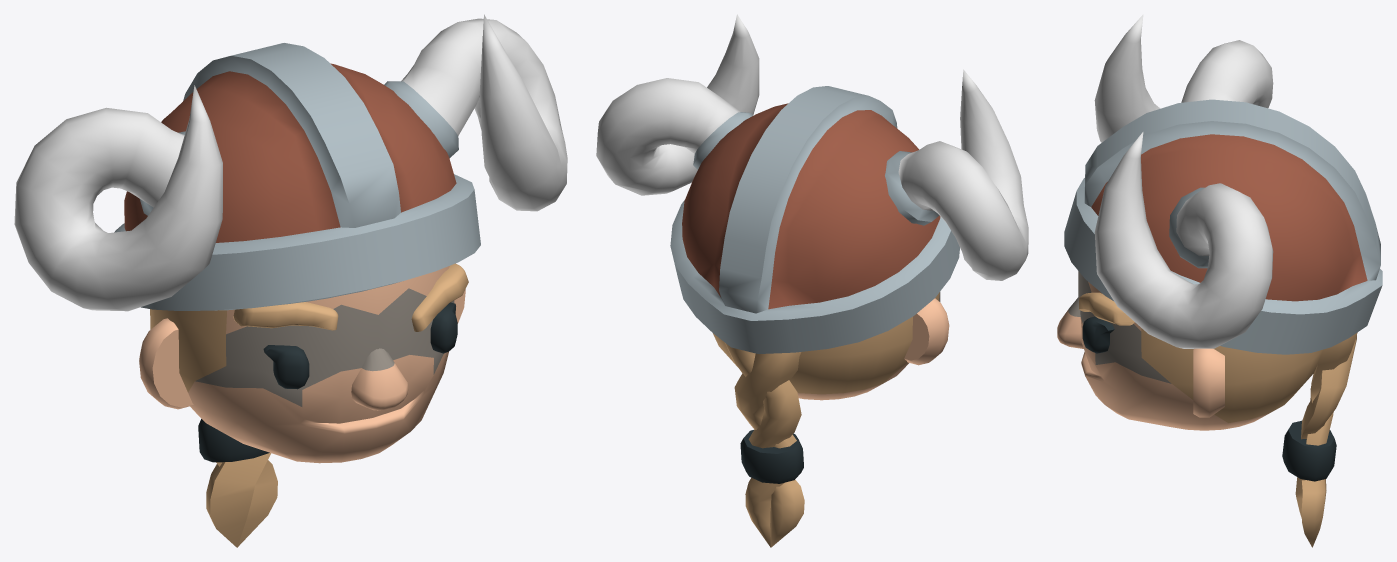
File: vikingFemaleHeadB_helmet.gltf.glb
3 views of the same model, side by side, from view 1: azimuth 30°, elevation 25°; view 2: azimuth 150°, elevation 25°; view 3: azimuth 270°, elevation 25° (orthographic). The views are drawn at different scales.
Parts seen in each view (by area): view 1: vikingFemaleHeadB_helmet; view 2: vikingFemaleHeadB_helmet; view 3: vikingFemaleHeadB_helmet.
Part boxes in pixels (x1,y1,x2,y2): vikingFemaleHeadB_helmet: [14, 14, 567, 547]; vikingFemaleHeadB_helmet: [596, 14, 1028, 547]; vikingFemaleHeadB_helmet: [1057, 14, 1382, 547].
Bounding box in the file's own units: 1.95 × 2.01 × 1.25.
